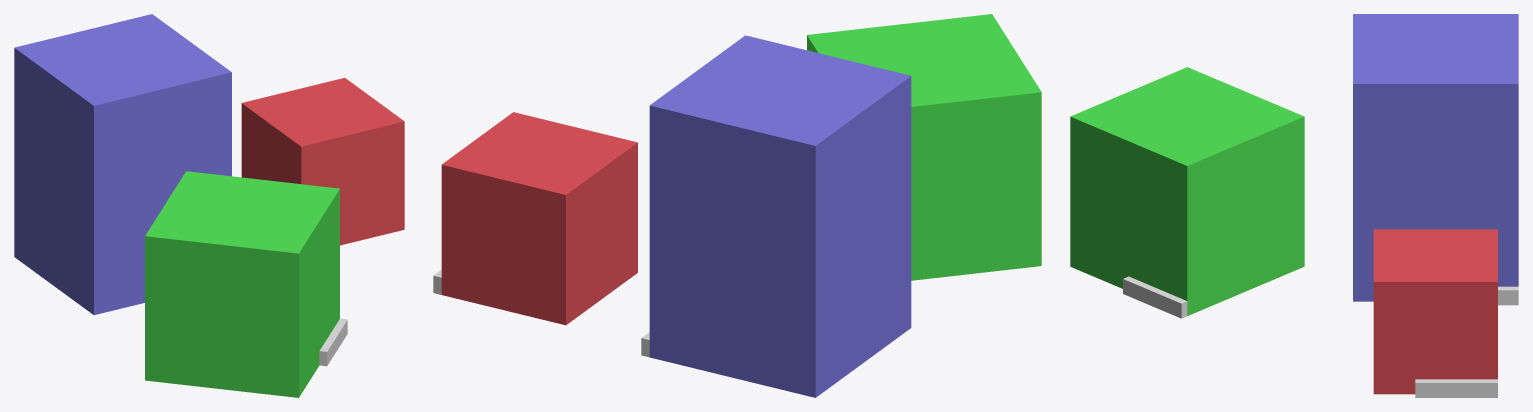
Rendered from cubes.glb.
3 renders of one model, left to right at view 1: azimuth 30°, elevation 25°; view 2: azimuth 150°, elevation 25°; view 3: azimuth 270°, elevation 25°, orthographic. The views are drawn at different scales.
Parts seen in each view (by area): view 1: BlueTall, GreenCube, Cube, pos_GreenCube; view 2: BlueTall, GreenCube, Cube; view 3: GreenCube, BlueTall, Cube, pos_Cube, pos_GreenCube, pos_BlueTall.
Boxes of the visible parts, x1,y1,x2,y2 form: BlueTall: [14, 14, 231, 314]; GreenCube: [145, 171, 339, 397]; Cube: [241, 78, 404, 245]; pos_GreenCube: [319, 318, 347, 366]; BlueTall: [649, 35, 911, 397]; GreenCube: [807, 14, 1041, 280]; Cube: [441, 112, 637, 325]; GreenCube: [1070, 67, 1304, 315]; BlueTall: [1353, 14, 1518, 301]; Cube: [1373, 229, 1497, 394]; pos_Cube: [1415, 379, 1497, 397]; pos_GreenCube: [1123, 276, 1187, 318]; pos_BlueTall: [1498, 286, 1518, 305].
Bounding box in the file's own units: 51.64 × 29 × 54.14.
